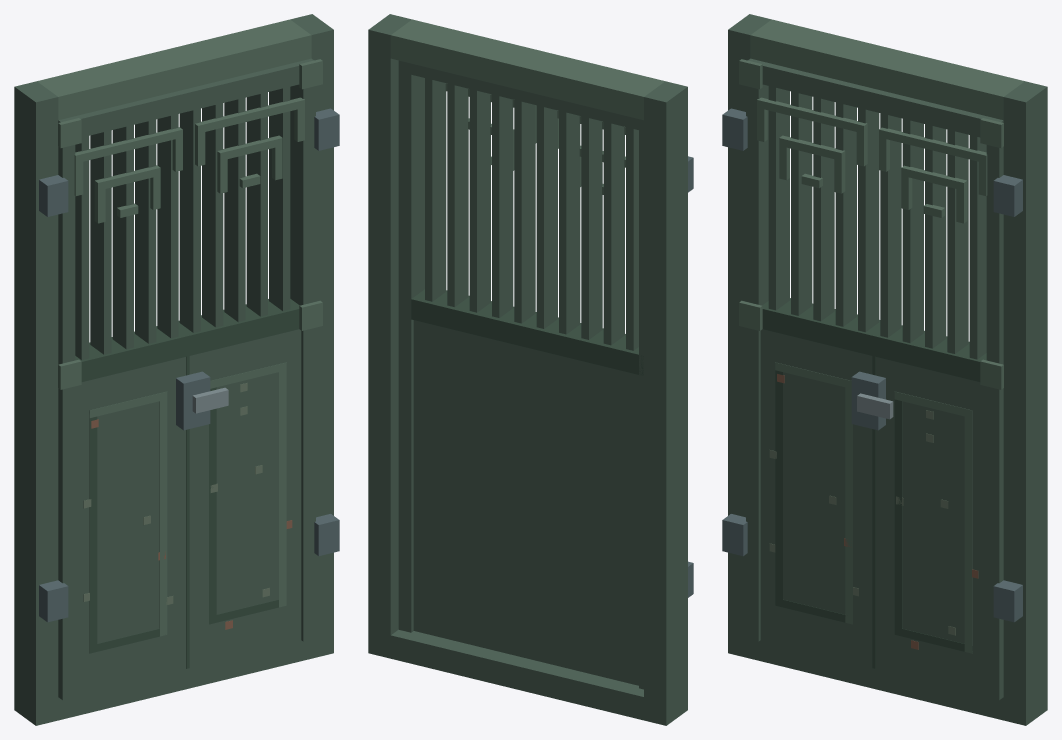
The model's file is IronDoor_RuralGreen_1x1.fbx.
The picture shows the model from 3 angles, left to right: view 1: azimuth 30°, elevation 25°; view 2: azimuth 150°, elevation 25°; view 3: azimuth 330°, elevation 25°; orthographic projection.
Visible parts, largest first — view 1: IronDoor_RuralGreen_1x1_LeafSheet, IronDoor_RuralGreen_1x1_Frame_LeftJamb, IronDoor_RuralGreen_1x1_Frame_Lintel, IronDoor_RuralGreen_1x1_Frame_RightJamb, IronDoor_RuralGreen_1x1_LeafStile1, IronDoor_RuralGreen_1x1_LeafStile-1, IronDoor_RuralGreen_1x1_MidRail, IronDoor_RuralGreen_1x1_Frame_Threshold, IronDoor_RuralGreen_1x1_UpperRail, IronDoor_RuralGreen_1x1_VerticalBar5, IronDoor_RuralGreen_1x1_VerticalBar4, IronDoor_RuralGreen_1x1_VerticalBar6 (+30 smaller); view 2: IronDoor_RuralGreen_1x1_LeafSheet, IronDoor_RuralGreen_1x1_Frame_LeftJamb, IronDoor_RuralGreen_1x1_Frame_RightJamb, IronDoor_RuralGreen_1x1_Frame_Lintel, IronDoor_RuralGreen_1x1_LeafStile1, IronDoor_RuralGreen_1x1_Frame_Threshold, IronDoor_RuralGreen_1x1_MidRail, IronDoor_RuralGreen_1x1_VerticalBar1, IronDoor_RuralGreen_1x1_VerticalBar4, IronDoor_RuralGreen_1x1_VerticalBar7, IronDoor_RuralGreen_1x1_VerticalBar5, IronDoor_RuralGreen_1x1_VerticalBar6 (+7 smaller); view 3: IronDoor_RuralGreen_1x1_LeafSheet, IronDoor_RuralGreen_1x1_Frame_RightJamb, IronDoor_RuralGreen_1x1_Frame_Lintel, IronDoor_RuralGreen_1x1_Frame_LeftJamb, IronDoor_RuralGreen_1x1_LeafStile-1, IronDoor_RuralGreen_1x1_LeafStile1, IronDoor_RuralGreen_1x1_MidRail, IronDoor_RuralGreen_1x1_Frame_Threshold, IronDoor_RuralGreen_1x1_UpperRail, IronDoor_RuralGreen_1x1_VerticalBar4, IronDoor_RuralGreen_1x1_VerticalBar5, IronDoor_RuralGreen_1x1_VerticalBar2 (+30 smaller).
Part boxes in pixels (bbox=[...]): IronDoor_RuralGreen_1x1_LeafSheet: bbox=[75, 329, 301, 695]; IronDoor_RuralGreen_1x1_Frame_LeftJamb: bbox=[14, 81, 58, 725]; IronDoor_RuralGreen_1x1_Frame_Lintel: bbox=[37, 19, 311, 120]; IronDoor_RuralGreen_1x1_Frame_RightJamb: bbox=[290, 14, 333, 658]; IronDoor_RuralGreen_1x1_LeafStile1: bbox=[290, 58, 315, 641]; IronDoor_RuralGreen_1x1_LeafStile-1: bbox=[58, 117, 75, 700]; IronDoor_RuralGreen_1x1_MidRail: bbox=[58, 299, 299, 381]; IronDoor_RuralGreen_1x1_Frame_Threshold: bbox=[58, 639, 311, 720]; IronDoor_RuralGreen_1x1_UpperRail: bbox=[58, 61, 300, 137]; IronDoor_RuralGreen_1x1_VerticalBar5: bbox=[179, 108, 200, 332]; IronDoor_RuralGreen_1x1_VerticalBar4: bbox=[157, 114, 178, 338]; IronDoor_RuralGreen_1x1_VerticalBar6: bbox=[202, 103, 223, 327]; IronDoor_RuralGreen_1x1_LeafSheet: bbox=[413, 320, 638, 685]; IronDoor_RuralGreen_1x1_Frame_LeftJamb: bbox=[644, 81, 687, 725]; IronDoor_RuralGreen_1x1_Frame_RightJamb: bbox=[368, 14, 411, 658]; IronDoor_RuralGreen_1x1_Frame_Lintel: bbox=[390, 19, 665, 120]; IronDoor_RuralGreen_1x1_LeafStile1: bbox=[398, 60, 424, 632]; IronDoor_RuralGreen_1x1_Frame_Threshold: bbox=[390, 629, 643, 720]; IronDoor_RuralGreen_1x1_MidRail: bbox=[411, 289, 643, 375]; IronDoor_RuralGreen_1x1_VerticalBar1: bbox=[603, 122, 624, 345]; IronDoor_RuralGreen_1x1_VerticalBar4: bbox=[536, 105, 557, 328]; IronDoor_RuralGreen_1x1_VerticalBar7: bbox=[469, 89, 490, 312]; IronDoor_RuralGreen_1x1_VerticalBar5: bbox=[514, 100, 535, 323]; IronDoor_RuralGreen_1x1_VerticalBar6: bbox=[492, 94, 513, 317]; IronDoor_RuralGreen_1x1_LeafSheet: bbox=[760, 329, 986, 695]; IronDoor_RuralGreen_1x1_Frame_RightJamb: bbox=[1003, 81, 1047, 725]; IronDoor_RuralGreen_1x1_Frame_Lintel: bbox=[750, 19, 1024, 120]; IronDoor_RuralGreen_1x1_Frame_LeftJamb: bbox=[728, 14, 771, 658]; IronDoor_RuralGreen_1x1_LeafStile-1: bbox=[746, 58, 768, 641]; IronDoor_RuralGreen_1x1_LeafStile1: bbox=[986, 117, 1003, 700]; IronDoor_RuralGreen_1x1_MidRail: bbox=[762, 298, 986, 381]; IronDoor_RuralGreen_1x1_Frame_Threshold: bbox=[750, 639, 1003, 720]; IronDoor_RuralGreen_1x1_UpperRail: bbox=[761, 61, 990, 137]; IronDoor_RuralGreen_1x1_VerticalBar4: bbox=[858, 108, 879, 332]; IronDoor_RuralGreen_1x1_VerticalBar5: bbox=[880, 113, 901, 337]; IronDoor_RuralGreen_1x1_VerticalBar2: bbox=[813, 97, 834, 321].
Size of the model in its own units: 100 by 200 by 21.5.
